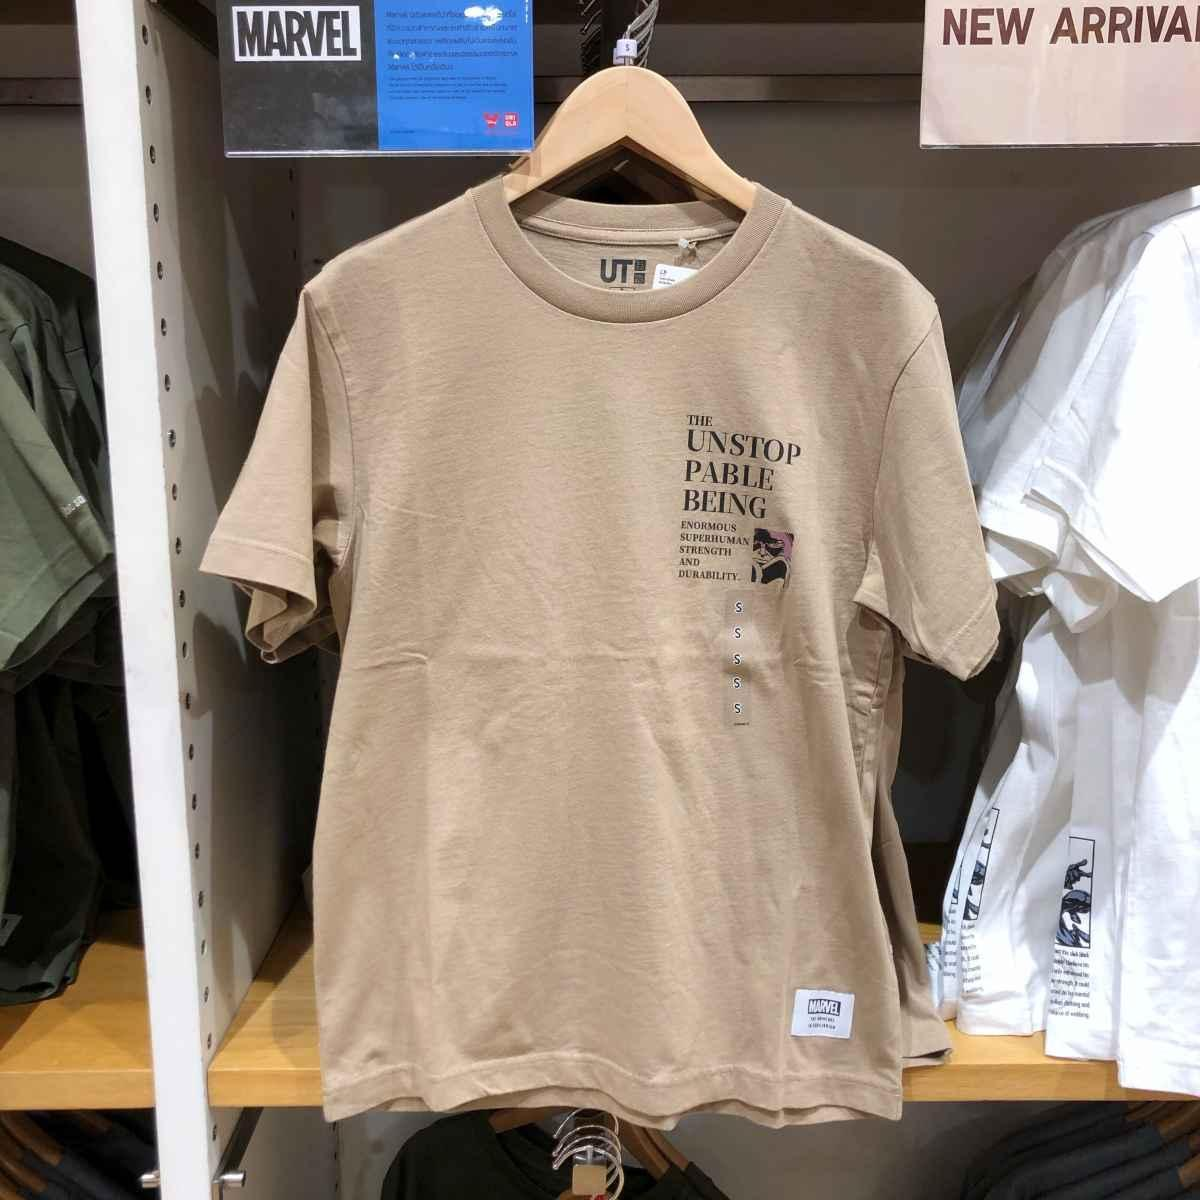Tshirt: (219, 173, 1011, 1148)
